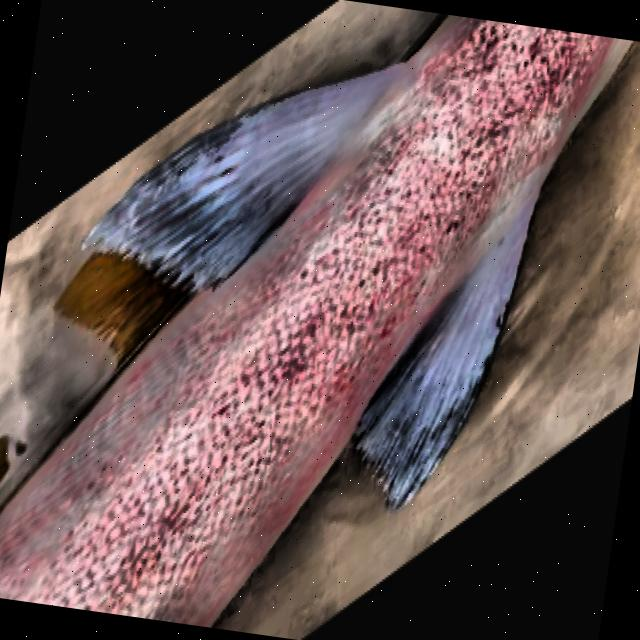mild_red: (0, 16, 631, 625)
